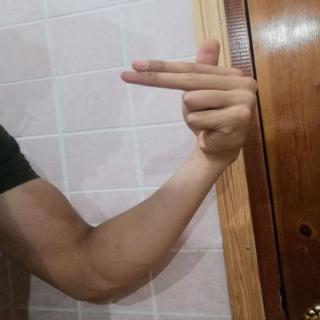GHAYN: (110, 28, 265, 164)
